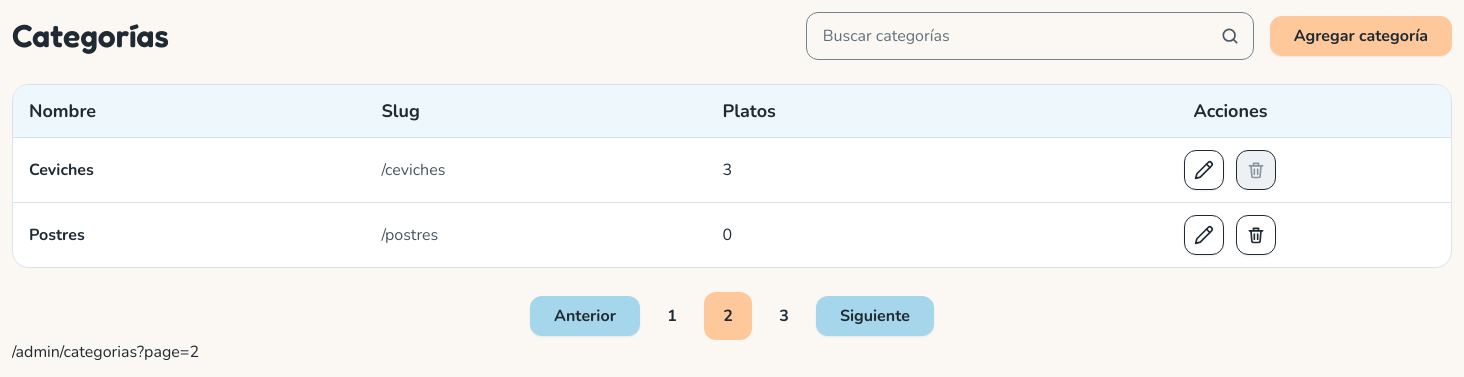
Test: AdminCategoriesPage › buscar envía el texto recortado, vuelve a la página 1 y lo deja en la URL
Type "  CEVICHE " into the search field labelled "Buscar categorías".
click(1030, 36); type("  CEVICHE ")  # box x1=806 y1=12 x2=1254 y2=60
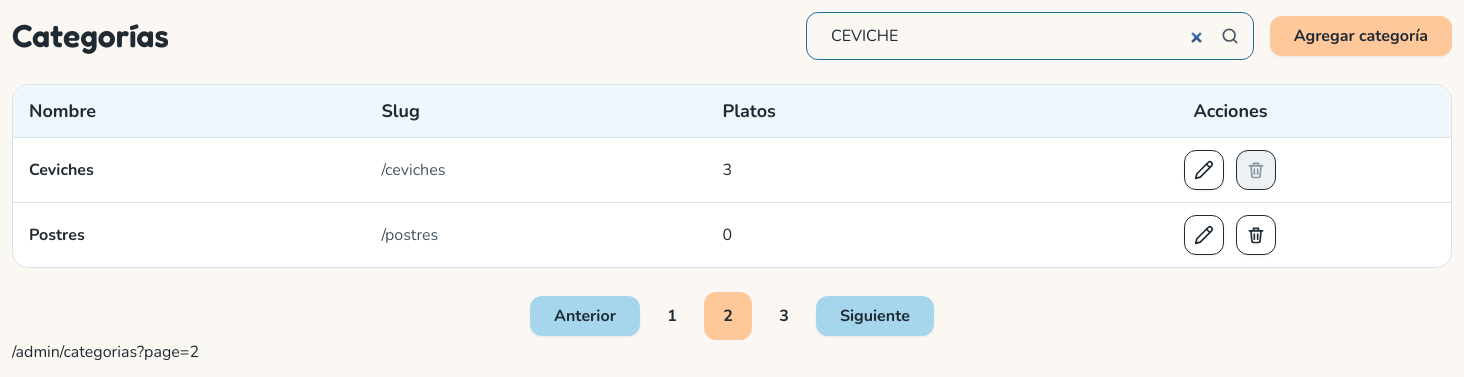
Click the button named "Buscar".
click(1230, 36)  # box x1=1210 y1=16 x2=1250 y2=56
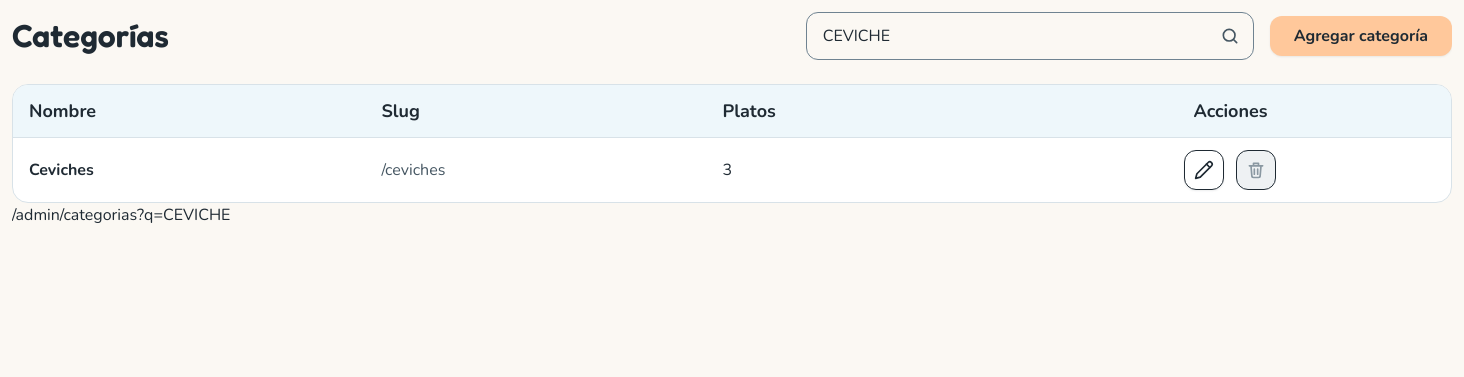
Check: the text with test id "location" reads "/admin/categorias?q=CEVICHE", box x1=12 y1=204 x2=230 y2=226
